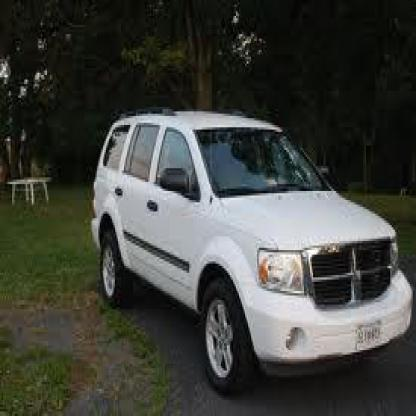Vehicle: (94, 111, 414, 400)
